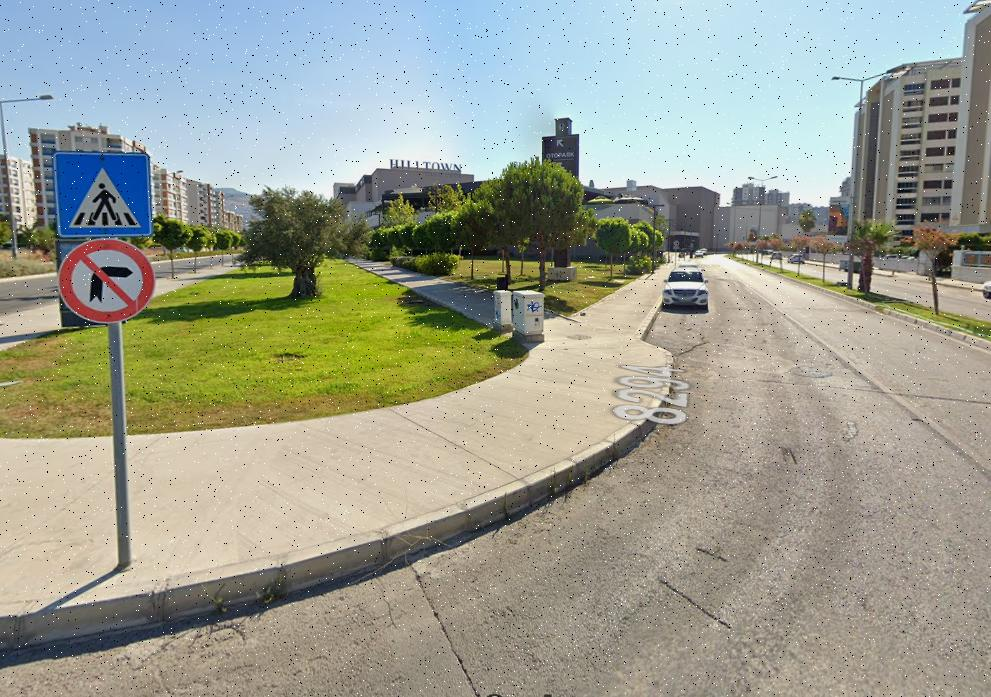rightturnsareforbidden: (65, 243, 156, 325)
